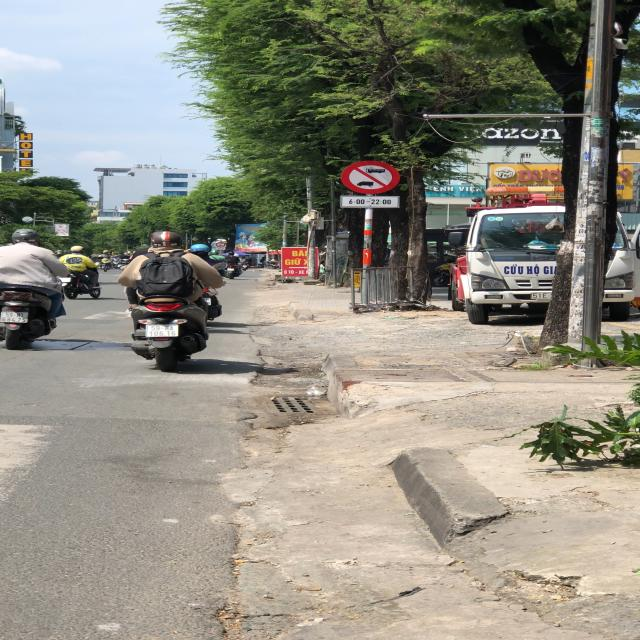Bien bao cam xe oto khach va xe oto tai: (334, 159, 401, 194)
